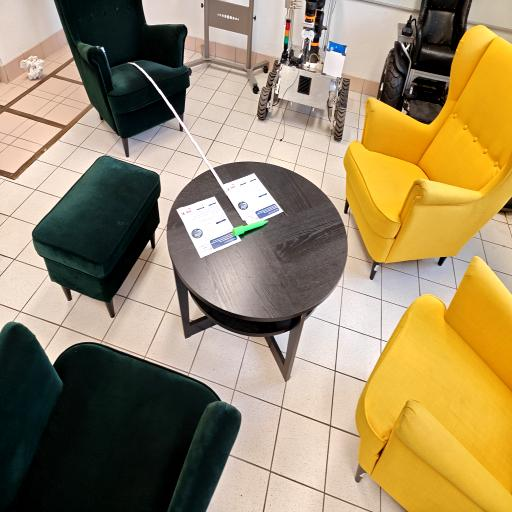Probe-Detection: (232, 220, 268, 236)
